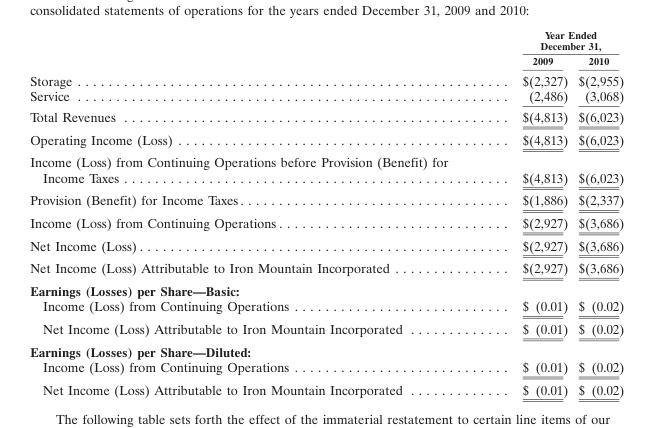table: (29, 28, 623, 397)
table column: (29, 28, 484, 397), (484, 28, 572, 397), (572, 28, 623, 397)
table column header: (29, 28, 623, 69)
table projected row header: (29, 339, 623, 358), (29, 279, 623, 297)
table row: (29, 150, 623, 188), (29, 28, 623, 52), (29, 127, 623, 150), (29, 188, 623, 211), (29, 233, 623, 256), (29, 256, 623, 279), (29, 211, 623, 233), (29, 317, 623, 339), (29, 106, 623, 127), (29, 297, 623, 317), (29, 377, 623, 397), (29, 69, 623, 88), (29, 339, 623, 358), (29, 358, 623, 377), (29, 88, 623, 106), (29, 279, 623, 297), (29, 52, 623, 69)
table spanning cell: (484, 28, 623, 52)
